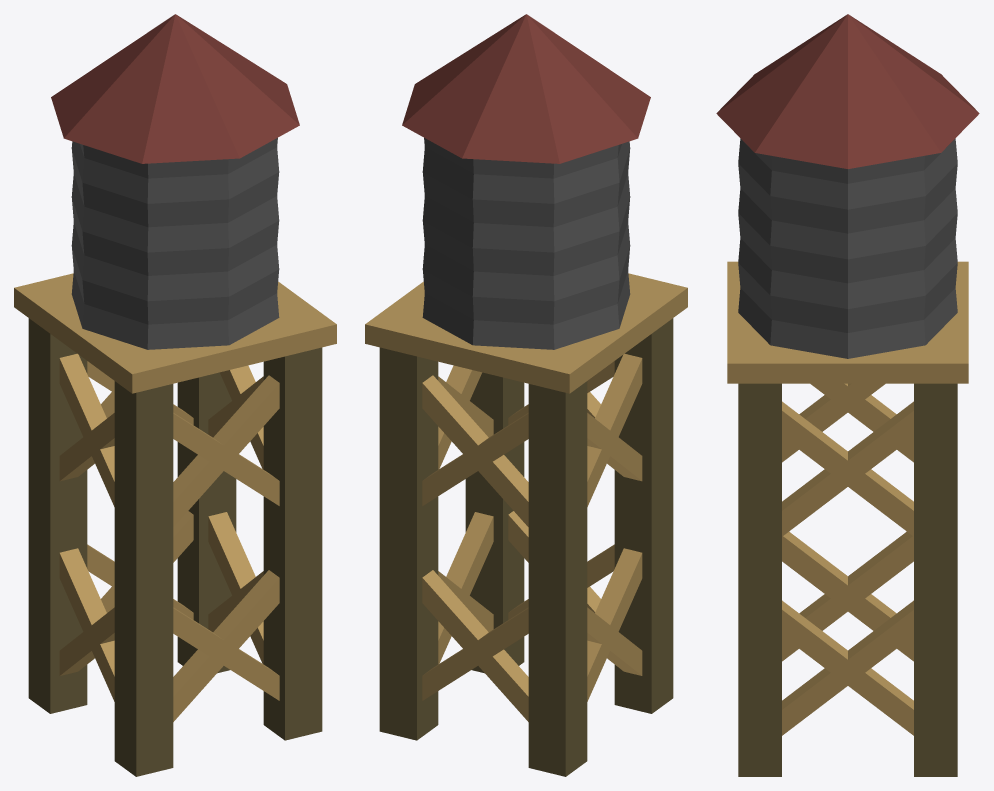
File: Water Tower.fbx
3 views of the same model, side by side, from view 1: azimuth 30°, elevation 25°; view 2: azimuth 150°, elevation 25°; view 3: azimuth 270°, elevation 25° (orthographic). The views are drawn at different scales.
Parts seen in each view (by area): view 1: Water Tower; view 2: Water Tower; view 3: Water Tower.
Part boxes in pixels (left/top/right/bottom): Water Tower: left=14, top=14, right=336, bottom=776; Water Tower: left=365, top=14, right=687, bottom=776; Water Tower: left=716, top=14, right=979, bottom=776.
Bounding box in the file's own units: 24 × 72 × 24.
